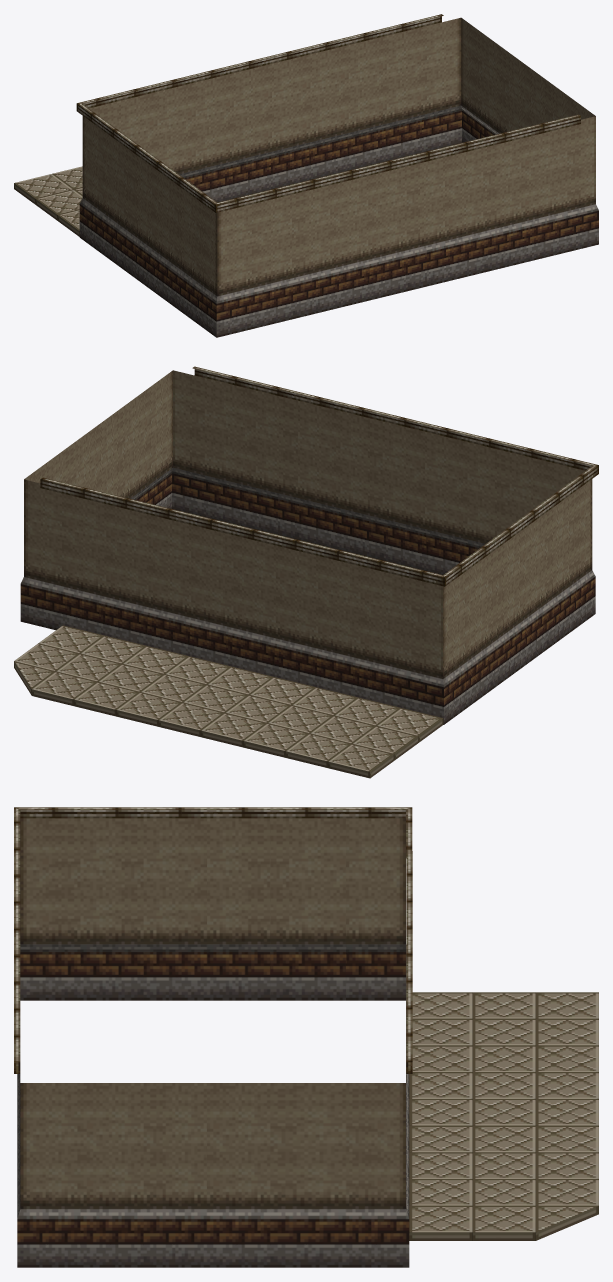
Rendered from EnvBdgMD_Sea_A_Outdoor_Pub_A_1F.FBX.
3 renders of one model, top to bottom at view 1: azimuth 30°, elevation 25°; view 2: azimuth 150°, elevation 25°; view 3: azimuth 270°, elevation 25°, orthographic. The views are drawn at different scales.
Parts seen in each view (by area): view 1: EnvBdgMD_Sea_A_Outdoor_Pub_A_1F; view 2: EnvBdgMD_Sea_A_Outdoor_Pub_A_1F; view 3: EnvBdgMD_Sea_A_Outdoor_Pub_A_1F.
Boxes of the visible parts, left/top/right/bottom form: EnvBdgMD_Sea_A_Outdoor_Pub_A_1F: left=14, top=14, right=598, bottom=337; EnvBdgMD_Sea_A_Outdoor_Pub_A_1F: left=14, top=366, right=598, bottom=778; EnvBdgMD_Sea_A_Outdoor_Pub_A_1F: left=14, top=807, right=598, bottom=1267.
Bounding box in the file's own units: 1005 × 335 × 925.
Materials: 2 (2 with a texture image).
